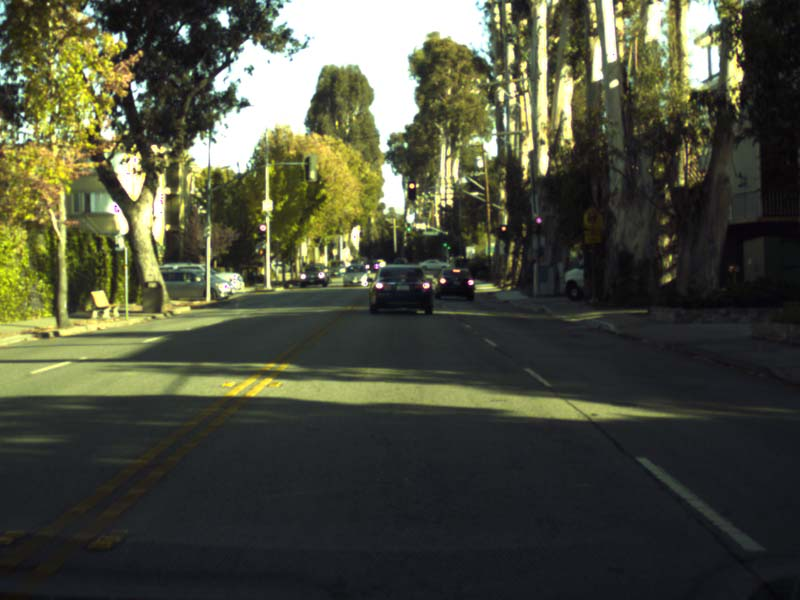Green: (441, 236, 450, 249), (406, 222, 410, 231)
Red: (407, 180, 415, 199), (534, 217, 542, 233), (499, 225, 507, 234), (258, 223, 265, 232), (258, 247, 265, 255)
